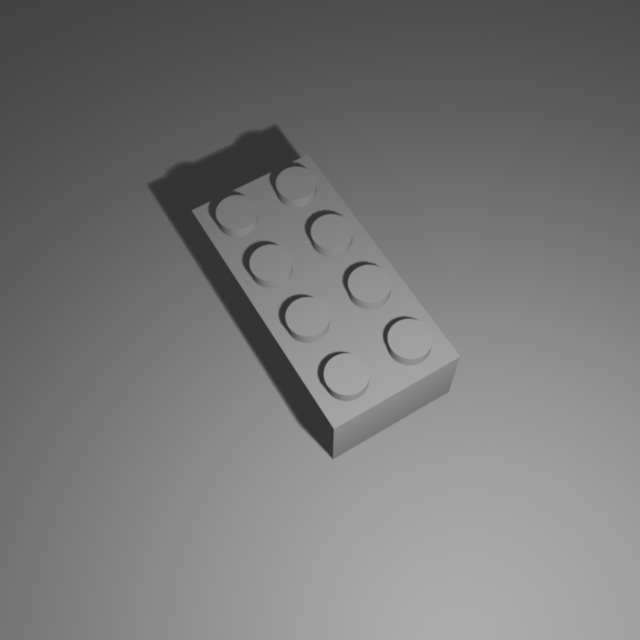lego_2x4: (190, 146, 462, 459)
